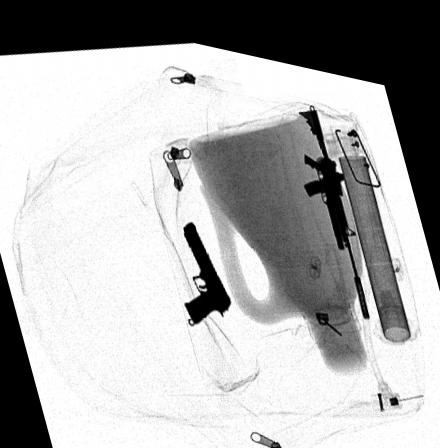Gun: (295, 93, 370, 301), (179, 210, 231, 317)
